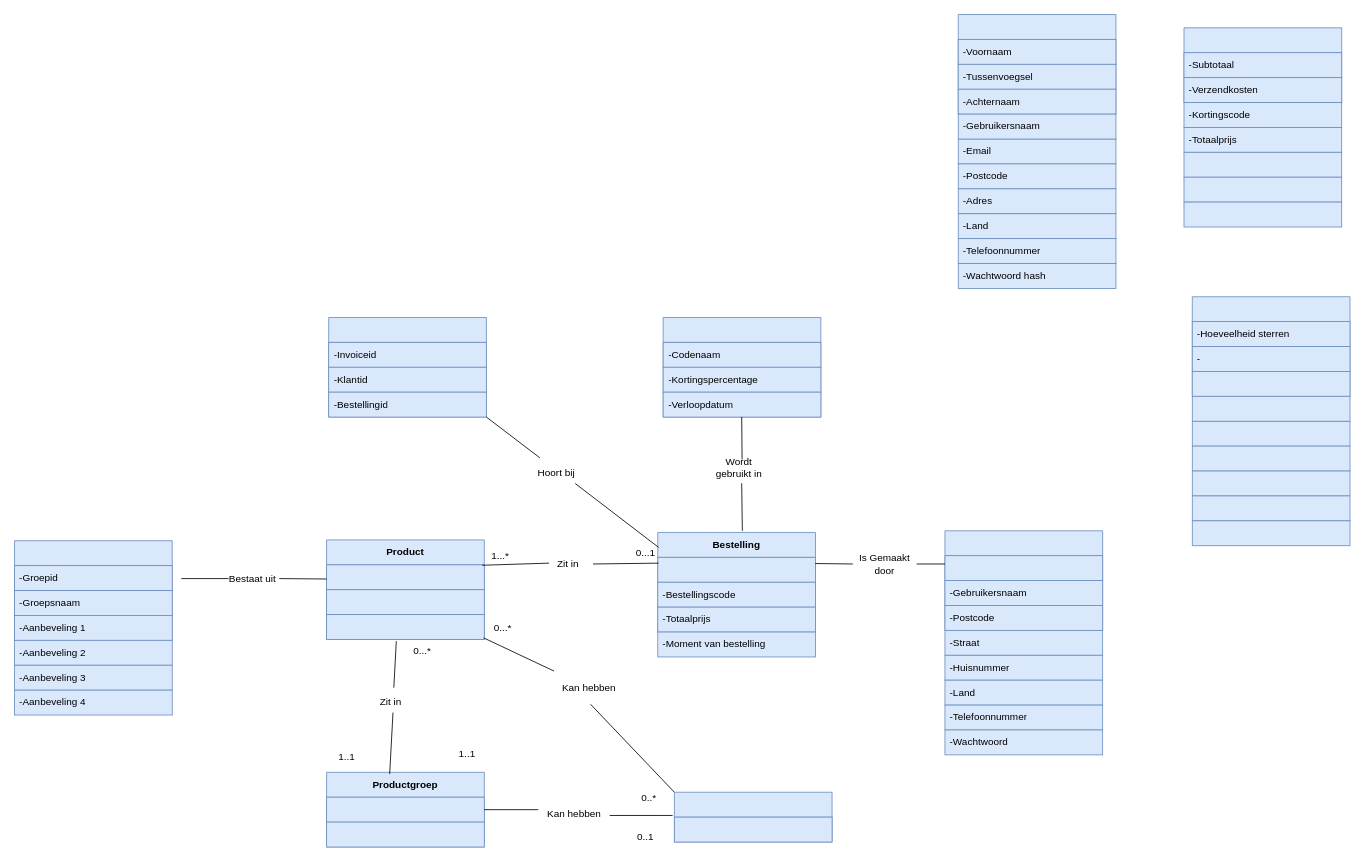
This 1365x862 diagram has some shape labels left out. Here are the shapes that lost their labels. From the top down, the box of each, then its label:
(957, 14, 1116, 114): Accounts
(1183, 27, 1342, 103): Winkelmandje
(1191, 296, 1350, 396): Reviews
(328, 317, 486, 417): Facatuur
(662, 317, 821, 417): Kortingscode
(326, 564, 484, 590): -Productcode
(657, 557, 815, 582): -Klant
(944, 555, 1103, 581): -Naam
(944, 530, 1103, 630): Klant
(14, 540, 172, 640): Aanbevelinggroep
(326, 589, 484, 615): -Productnaam
(326, 614, 484, 640): -Prijs
(326, 796, 484, 822): -Productgroepcode
(674, 791, 832, 842): Afbeelding
(674, 816, 832, 842): -Link naar plaatje
(326, 821, 484, 847): -Productgroepnaam
